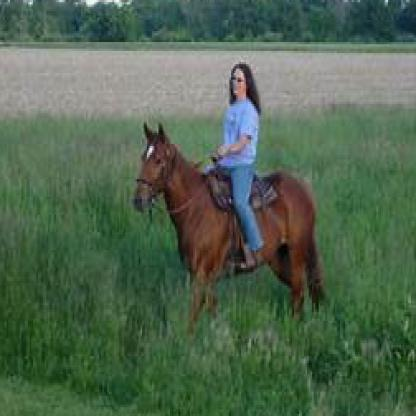horse: (134, 124, 322, 319)
